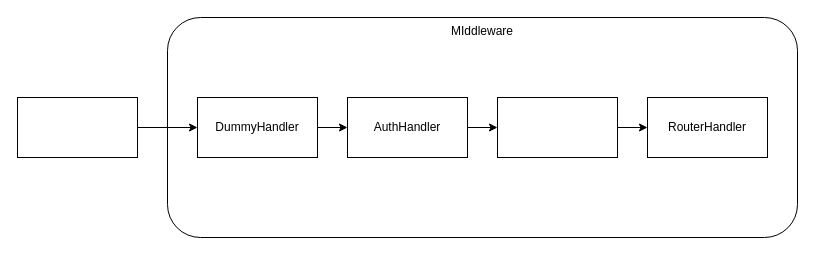
This 815x255 diagram has some shape labels left out. Here are the shapes that lost their labels. From the top down, the box of each, then its label:
(16, 96, 138, 158): Handler
(496, 96, 618, 158): CacheHandler
